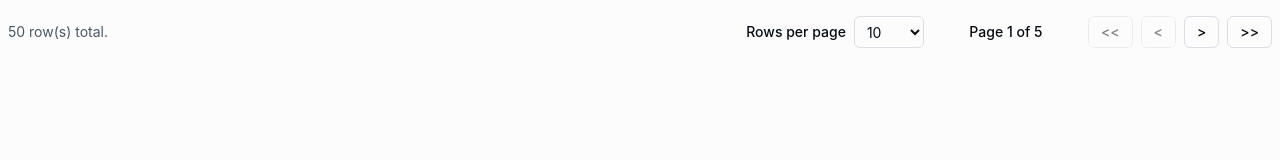
Scenario: TablePagination › navigation buttons › navigates to last page
Expected: the text "Page 1 of 5" is shown, [969, 23, 1042, 40]
Click the button ">>".
click(1250, 32)  # box [1227, 16, 1272, 48]
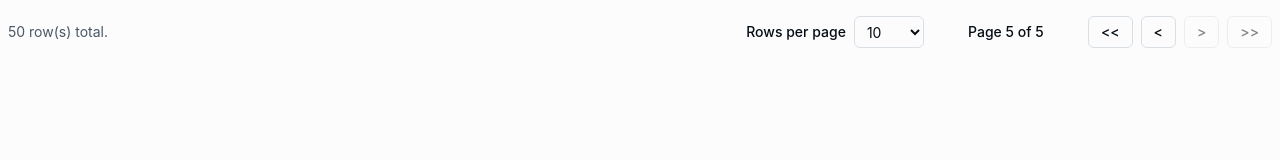
Expected: the text "Page 5 of 5" is shown, [968, 23, 1044, 40]
